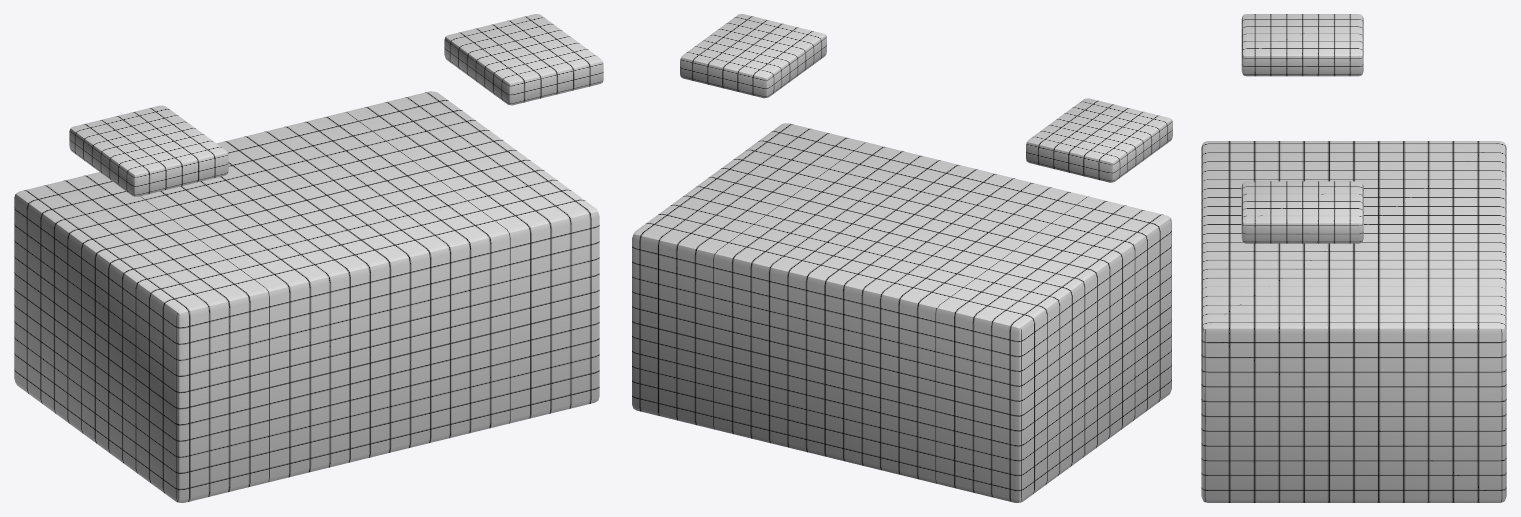
Rendered from training_map.fbx.
3 renders of one model, left to right at view 1: azimuth 30°, elevation 25°; view 2: azimuth 150°, elevation 25°; view 3: azimuth 270°, elevation 25°, orthographic. The views are drawn at different scales.
Visible parts, largest first — view 1: platform_1, platform_004, platform_3; view 2: platform_1, platform_004, platform_3; view 3: platform_1, platform_3, platform_004.
Part boxes in pixels (x1,y1,x2,y2): platform_1: (14,91,599,502); platform_004: (69,105,228,196); platform_3: (444,14,603,105); platform_1: (632,123,1171,502); platform_004: (1026,98,1172,182); platform_3: (680,14,826,98); platform_1: (1201,141,1506,502); platform_3: (1241,181,1363,243); platform_004: (1241,14,1363,76).
Bounding box in the file's own units: 267 × 174 × 164.
1 material, 1 textured.
